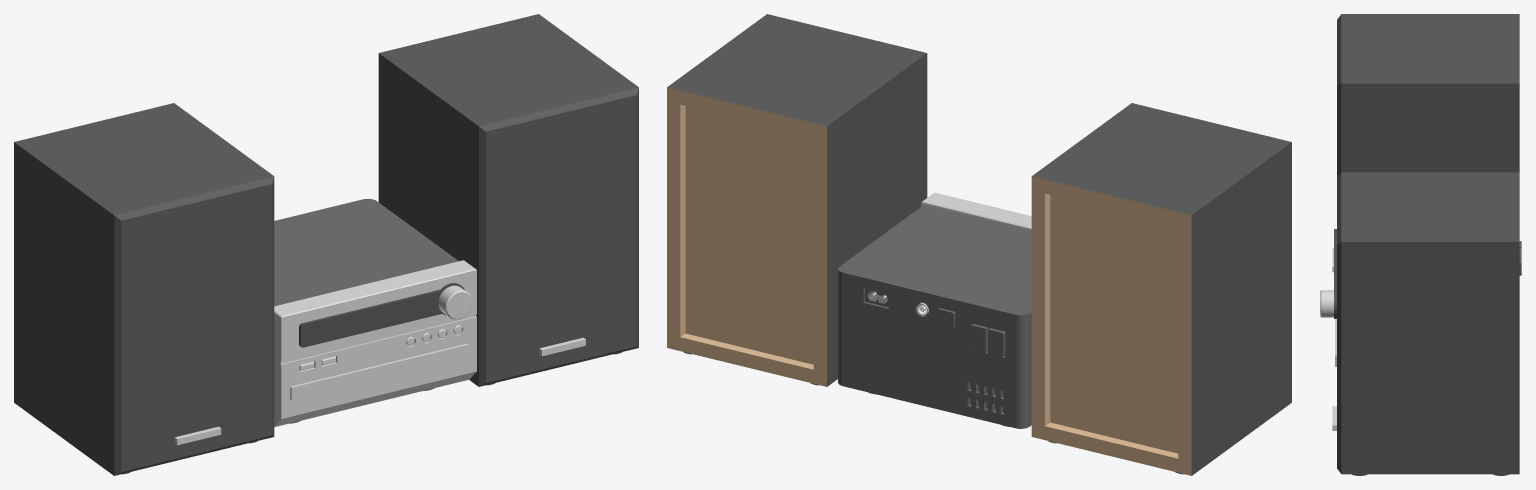
File: 834_stereo_component.glb
The picture shows the model from 3 angles, left to right: view 1: azimuth 30°, elevation 25°; view 2: azimuth 150°, elevation 25°; view 3: azimuth 270°, elevation 25°; orthographic projection. The views are drawn at different scales.
Parts seen in each view (by area): view 1: Body, tray; view 2: Body; view 3: Body.
Part boxes in pixels (left/top/right/bottom): Body: left=14, top=14, right=638, bottom=475; tray: left=290, top=343, right=468, bottom=400; Body: left=667, top=14, right=1291, bottom=475; Body: left=1320, top=14, right=1521, bottom=475.
Size of the model in its own units: 0.59 by 0.285 by 0.22.
